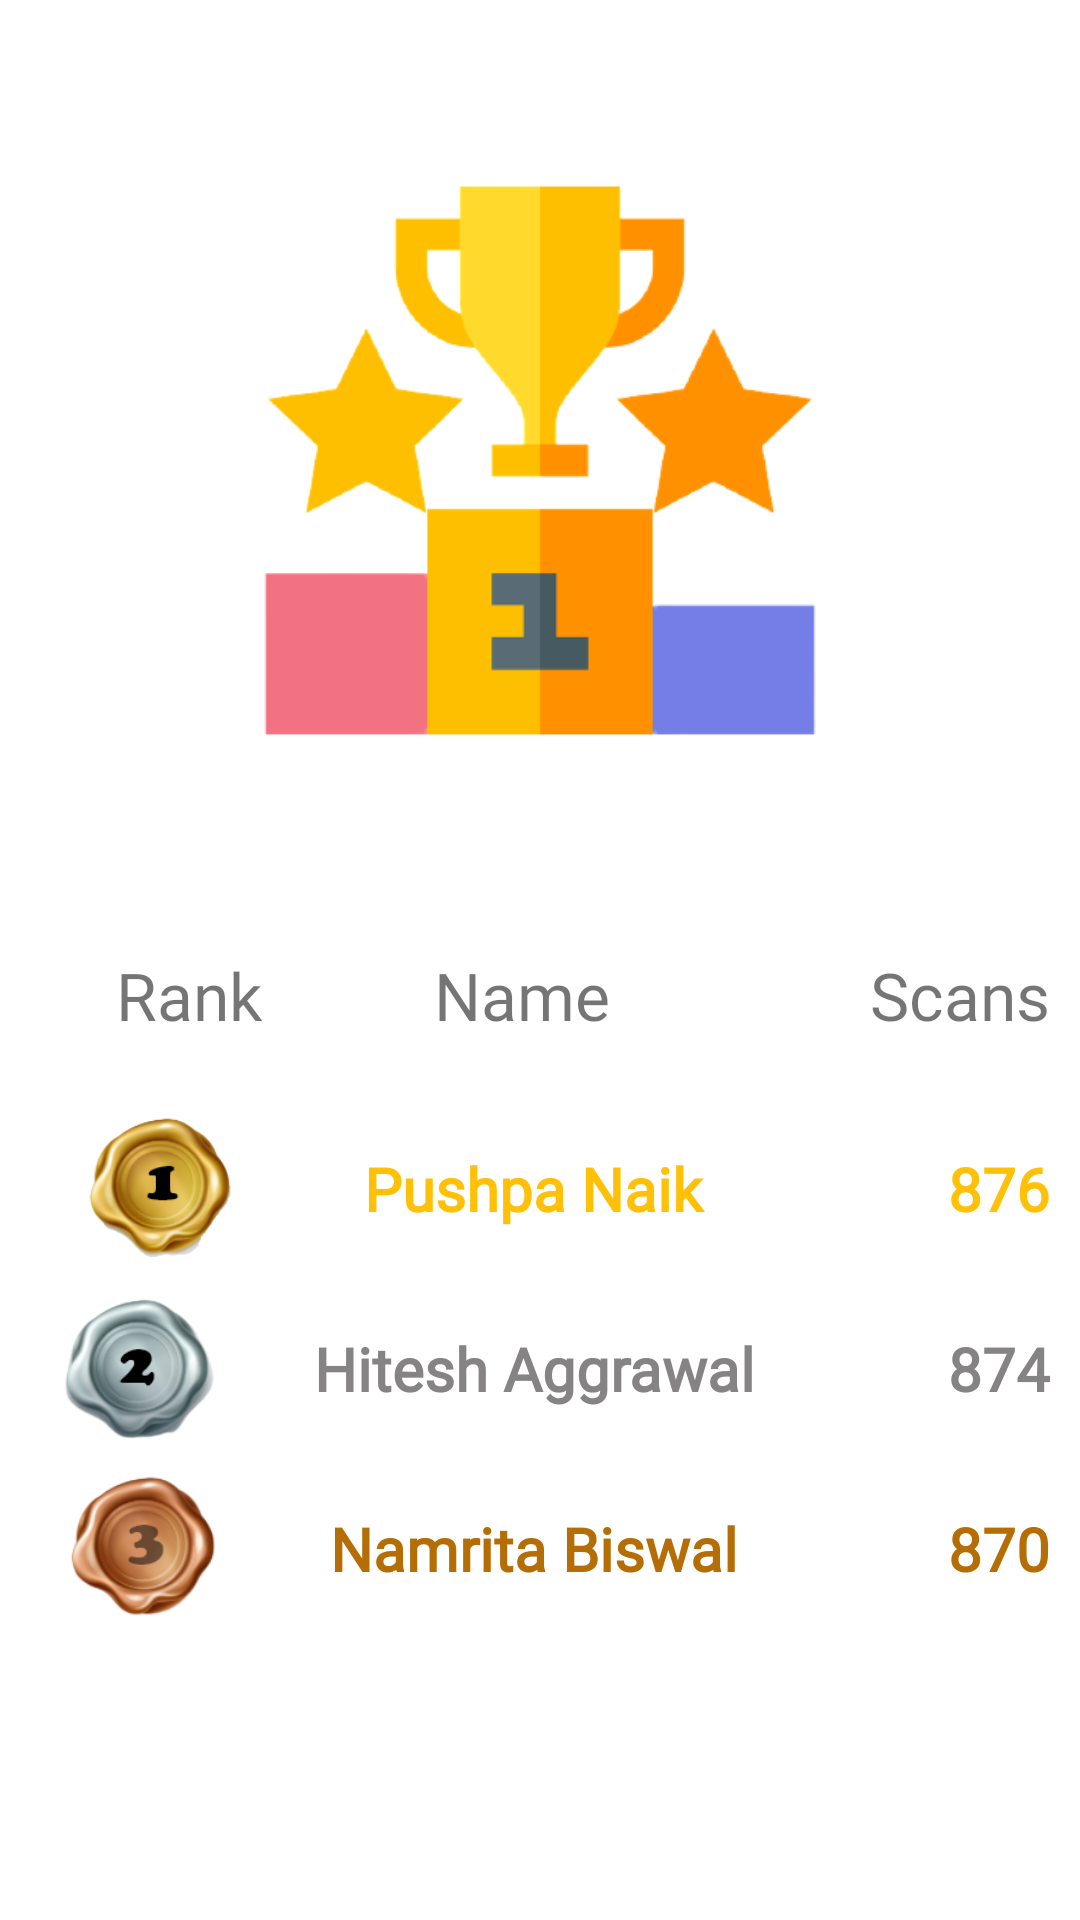

Where icons sit on this 1080px x 1920px app screen, as (x1, y1, x2, y2):
bronze: (71, 1477, 215, 1615)
gold: (90, 1118, 231, 1257)
silver: (66, 1300, 213, 1438)
